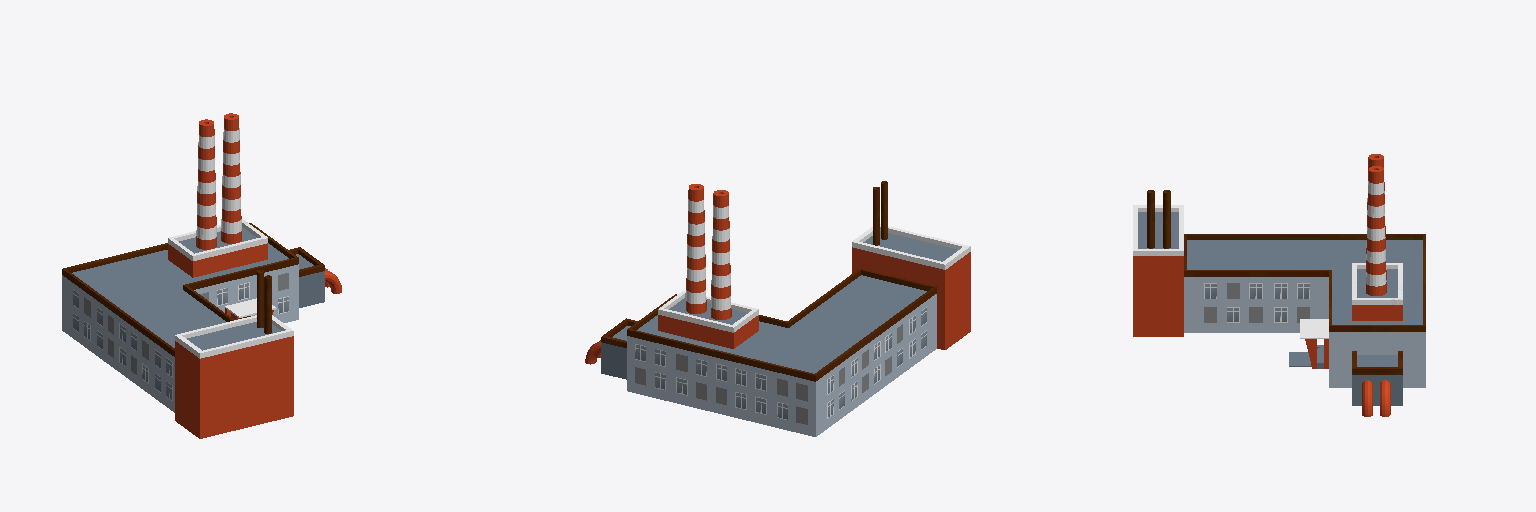
The picture shows the model from 3 angles: view 1: azimuth 30°, elevation 25°; view 2: azimuth 150°, elevation 25°; view 3: azimuth 270°, elevation 25°; orthographic projection.
Parts seen in each view (by area): view 1: factory; view 2: factory; view 3: factory.
Boxes of the visible parts, x1=… form: factory: x1=62, y1=113, x2=341, y2=438; factory: x1=585, y1=181, x2=970, y2=436; factory: x1=1133, y1=154, x2=1425, y2=416.
Bounding box in the file's own units: 110 × 79.6 × 107.
Materials: 2 (1 with a texture image).